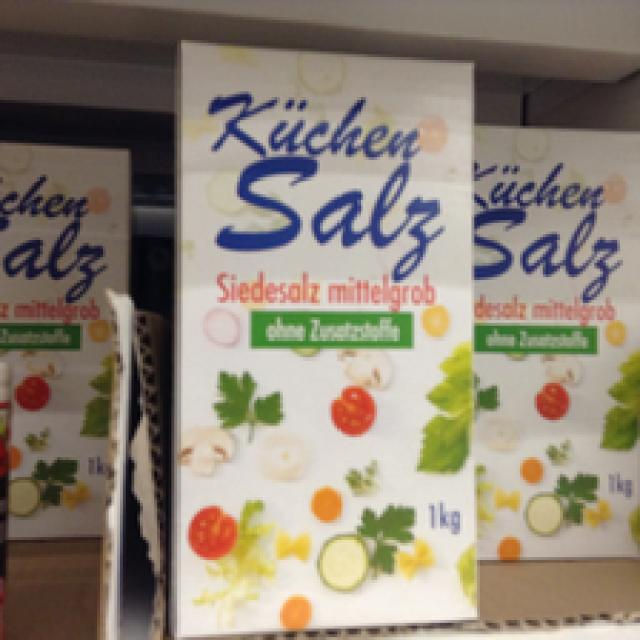groceries: (172, 32, 474, 637), (472, 123, 637, 563), (0, 137, 129, 540)
